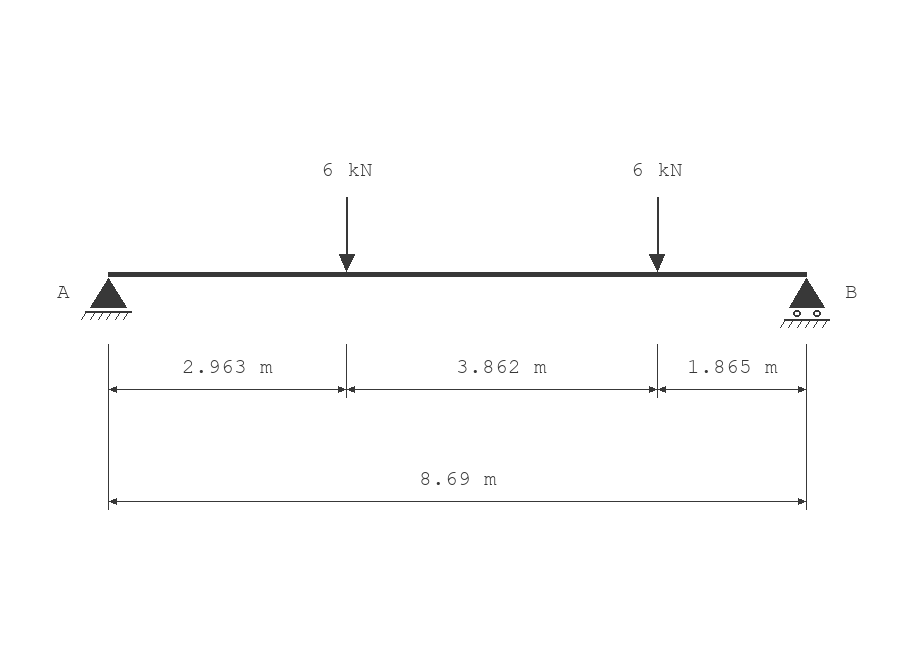pin_support: (81, 278, 132, 320)
point_load: (339, 197, 355, 272), (649, 197, 665, 272)
roller_support: (780, 278, 830, 328)
